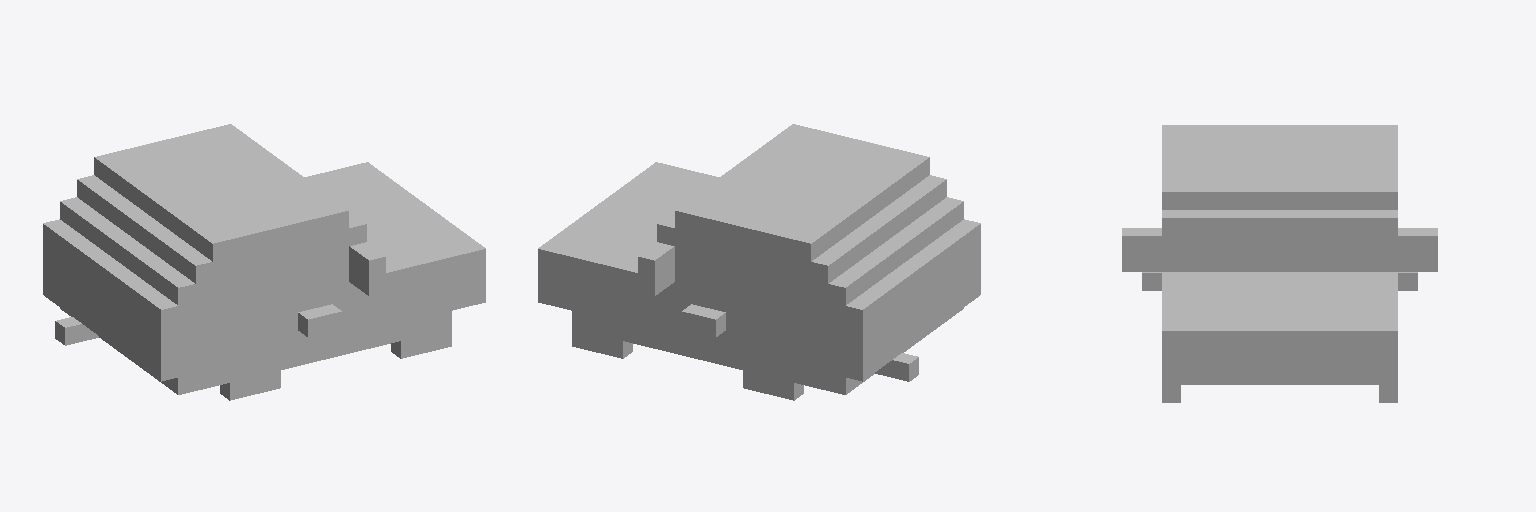
The model's file is kocsi.3.obj.
The picture shows the model from 3 angles: view 1: azimuth 30°, elevation 25°; view 2: azimuth 150°, elevation 25°; view 3: azimuth 270°, elevation 25°; orthographic projection.
Bounding box in the file's own units: 20 × 9 × 16.